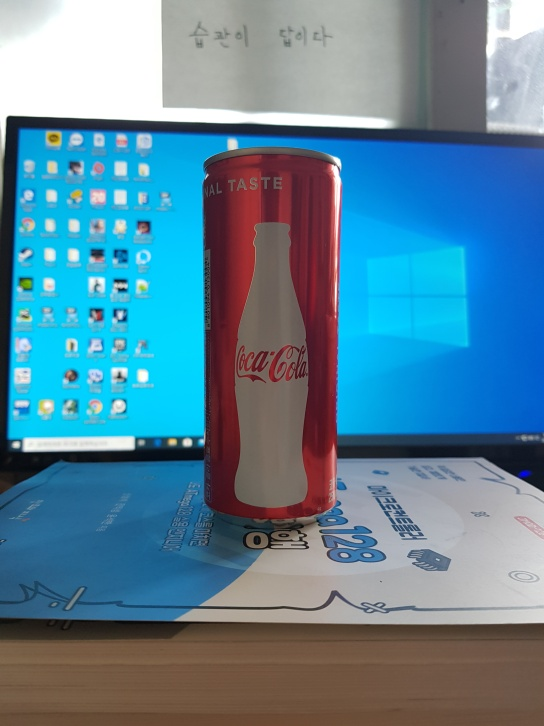Can: (197, 143, 341, 531)
